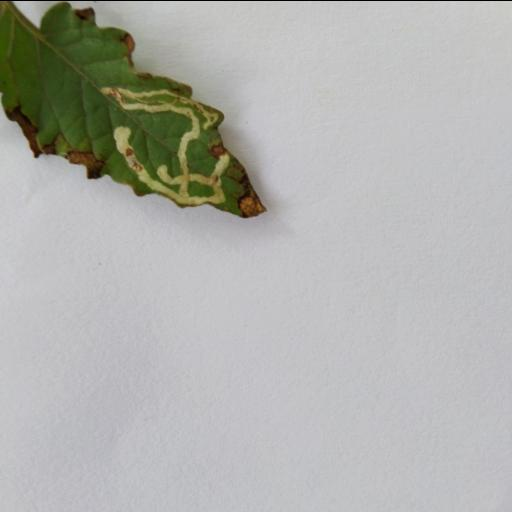disease_tomato: (0, 0, 271, 220)
